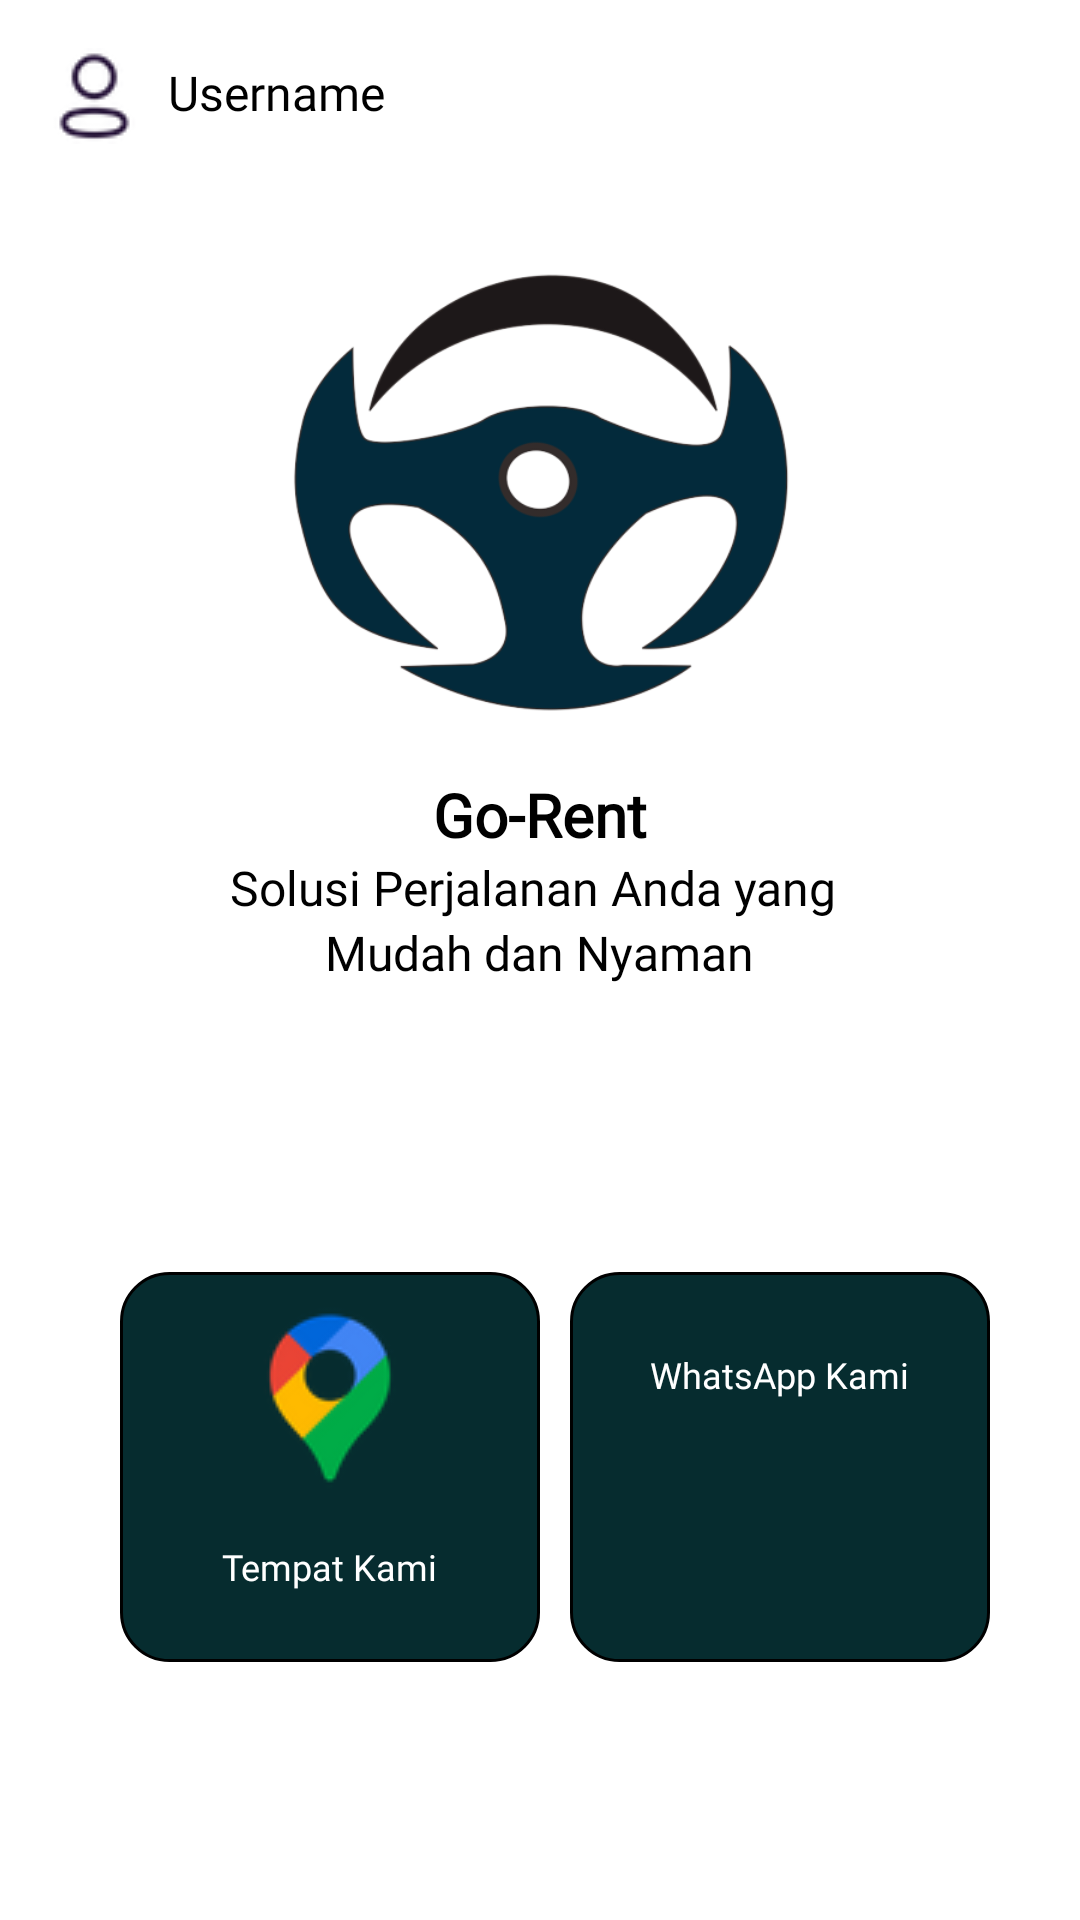

Locate icon controls on the screen. Image size 1080 x 1920, boxes as (x1, y1, x2, y2).
profile: (59, 53, 130, 139)
